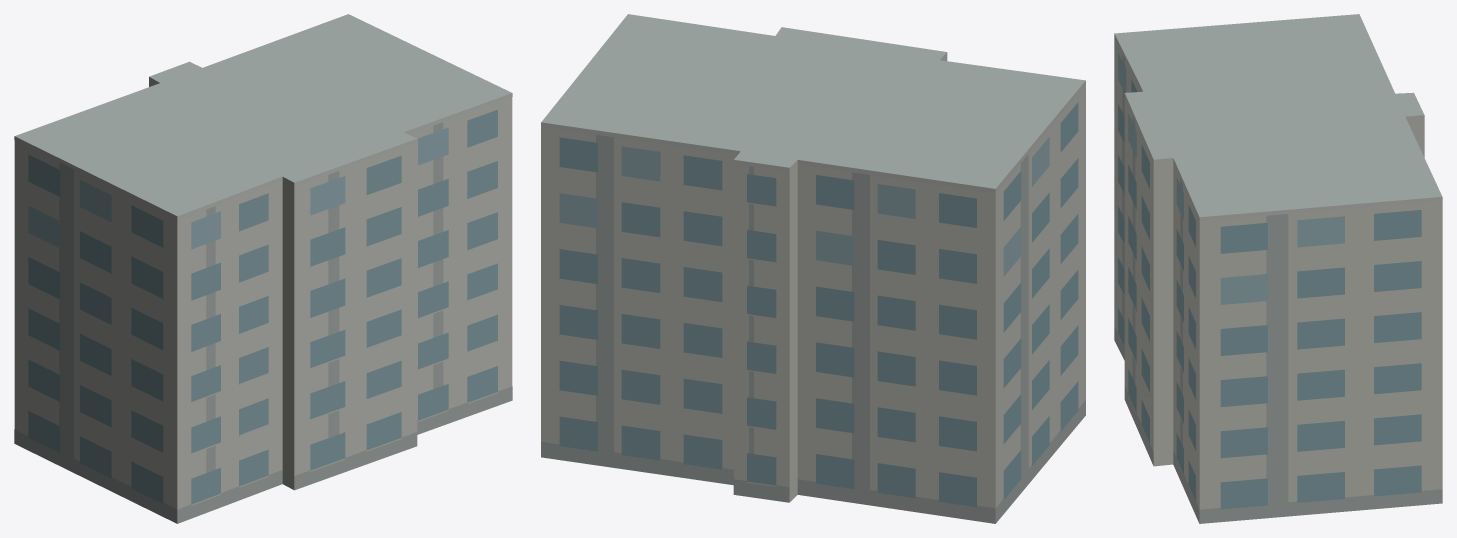
File: survey-upis-32840699.glb
The picture shows the model from 3 angles, left to right: view 1: azimuth 30°, elevation 25°; view 2: azimuth 150°, elevation 25°; view 3: azimuth 270°, elevation 25°; orthographic projection. The views are drawn at different scales.
Visible parts, largest first — view 1: survey-upis-32840699.tmp; view 2: survey-upis-32840699.tmp; view 3: survey-upis-32840699.tmp.
Part boxes in pixels (left/top/right/bottom): survey-upis-32840699.tmp: left=14, top=14, right=512, bottom=523; survey-upis-32840699.tmp: left=541, top=14, right=1085, bottom=523; survey-upis-32840699.tmp: left=1114, top=14, right=1442, bottom=523.
Size of the model in its own units: 25.87 by 18.2 by 17.66.
